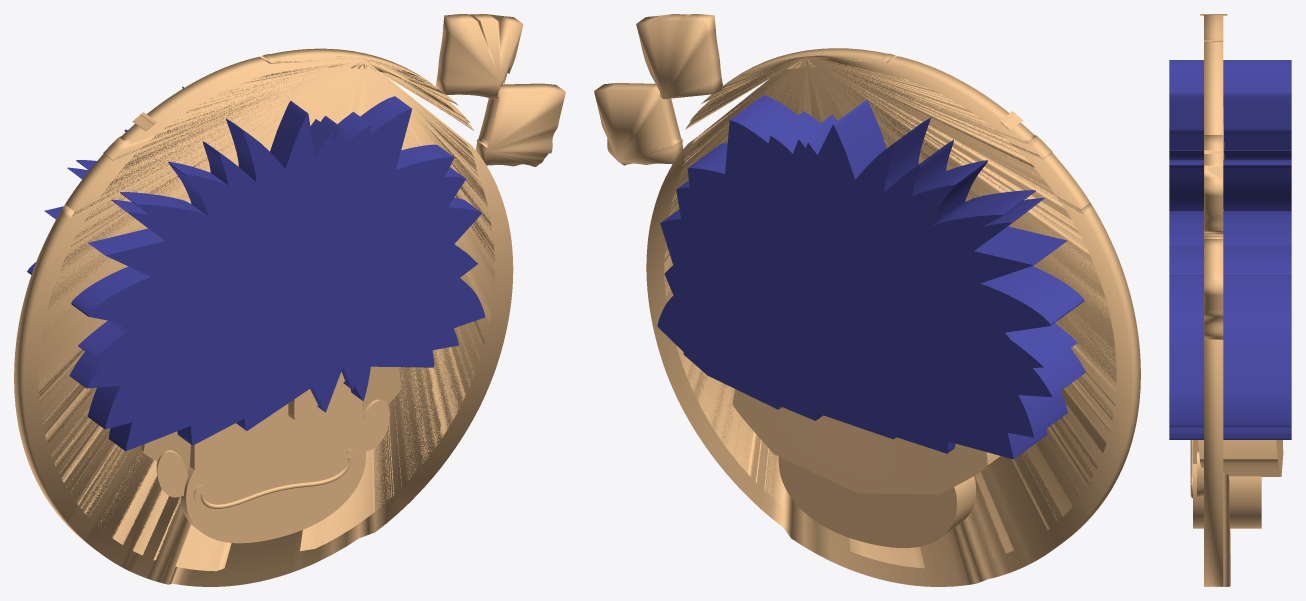
File: Marque_GI.obj
3 renders of one model, left to right at view 1: azimuth 30°, elevation 25°; view 2: azimuth 150°, elevation 25°; view 3: azimuth 270°, elevation 25°, orthographic.
Visible parts, largest first — view 1: OUTER, GI_LOGO_HAIR, GI_LOGO; view 2: GI_LOGO_HAIR, OUTER, GI_LOGO; view 3: GI_LOGO_HAIR, OUTER, GI_LOGO.
Part boxes in pixels (x1,y1,x2,y2): OUTER: (14,14,565,586); GI_LOGO_HAIR: (27,86,484,451); GI_LOGO: (141,366,400,543); GI_LOGO_HAIR: (657,95,1085,459); OUTER: (594,14,1140,586); GI_LOGO: (732,389,1001,547); GI_LOGO_HAIR: (1169,60,1291,439); OUTER: (1200,14,1230,586); GI_LOGO: (1190,440,1283,528).
Size of the model in its own units: 100 by 91.84 by 19.54.
